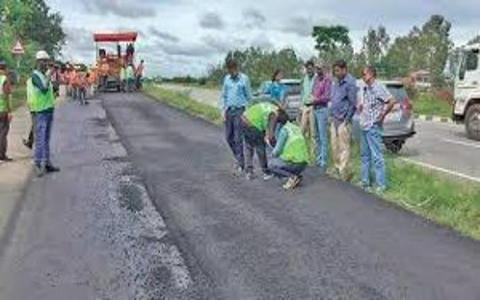Proper road: (197, 192, 466, 297)
